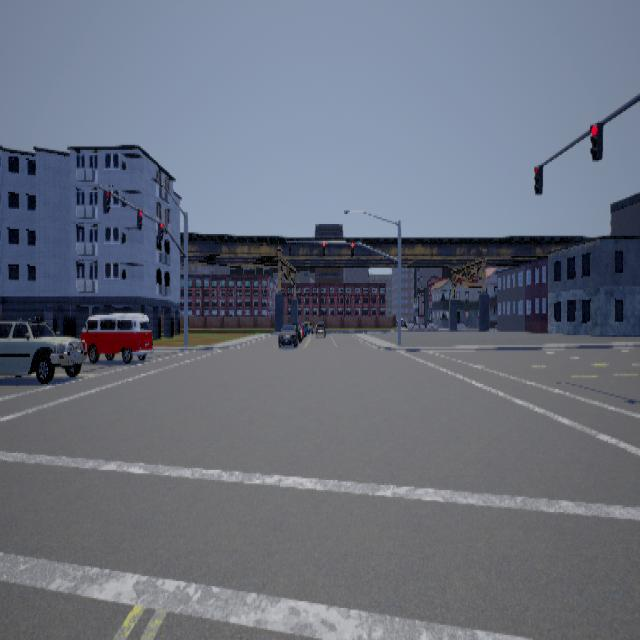red_light: (589, 120, 602, 160), (533, 163, 542, 194), (102, 189, 110, 212), (136, 208, 142, 230), (157, 221, 163, 239), (351, 242, 354, 256), (322, 242, 325, 256), (288, 241, 290, 255)
vehicle: (0, 317, 83, 382), (77, 306, 154, 364), (277, 320, 304, 345), (313, 320, 326, 335)
